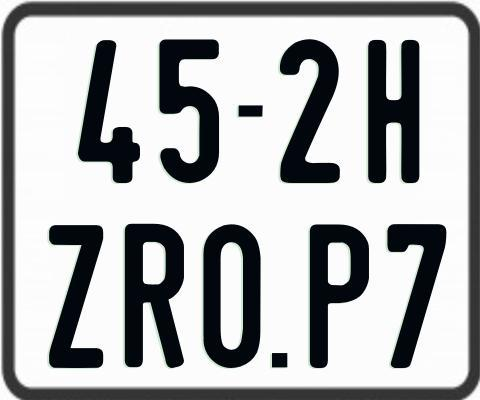0: (201, 222, 261, 369)
2: (280, 38, 346, 186)
4: (75, 38, 139, 182)
5: (158, 36, 218, 185)
7: (386, 223, 445, 369)
H: (368, 40, 423, 189)
P: (310, 221, 373, 371)
R: (124, 224, 188, 368)
Z: (48, 222, 107, 365)
